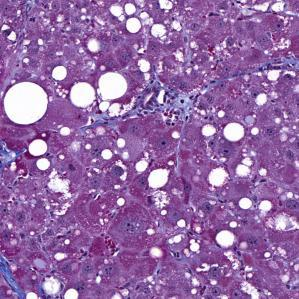fibrosis: (151, 79, 203, 129)
